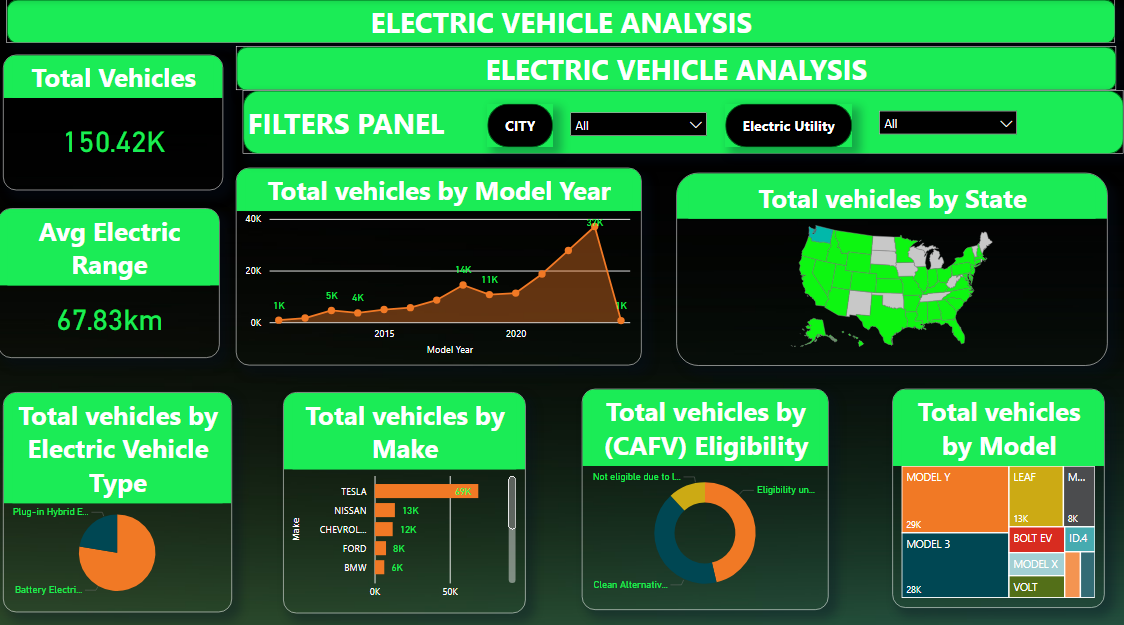

The dashboard page shown, as its layout file describes it:
{"tool":"powerbi","page":{"name":"Page 1","canvas":[1280,720],"ordinal":0},"visuals":[{"type":"shape","box":[10,0,1260,50],"z":0},{"type":"card","title":"Total Vehicles","fields":{"Values":["Electric_Vehicle_Population_Data.Total vehicles"]},"box":[6,64,250,154],"z":1000},{"type":"card","title":"Avg Electric Range","fields":{"Values":["Electric_Vehicle_Population_Data.BEV Vehicle"]},"box":[0,238,252,170],"z":2000},{"type":"pieChart","fields":{"Y":["Electric_Vehicle_Population_Data.Total vehicles"],"Category":["Electric_Vehicle_Population_Data.Electric Vehicle Type"]},"box":[6,446,260,250],"z":3000},{"type":"areaChart","fields":{"Y":["Electric_Vehicle_Population_Data.Total vehicles"],"Category":["Electric_Vehicle_Population_Data.Model Year"]},"box":[270.7,192.7,461,224.4],"z":4000},{"type":"shape","box":[270,54.3,1000,50],"z":5000},{"type":"shapeMap","fields":{"Category":["Electric_Vehicle_Population_Data.State"],"Value":["Electric_Vehicle_Population_Data.Total vehicles"]},"box":[770.7,197.6,490.2,219.5],"z":6000},{"type":"clusteredBarChart","fields":{"Y":["Electric_Vehicle_Population_Data.Total vehicles"],"Category":["Electric_Vehicle_Population_Data.Make"]},"box":[324.4,446.3,275.6,251.2],"z":7000},{"type":"donutChart","title":"Total vehicles by (CAFV) Eligibility","fields":{"Y":["Electric_Vehicle_Population_Data.Total vehicles"],"Category":["Electric_Vehicle_Population_Data.Clean Alternative Fuel Vehicle (CAFV) Eligibility"]},"box":[663.4,443.9,280.5,251.2],"z":8000},{"type":"treemap","fields":{"Group":["Electric_Vehicle_Population_Data.Model"],"Values":["Electric_Vehicle_Population_Data.Total vehicles"]},"box":[1017.1,443.9,241.5,248.8],"z":9000},{"type":"shape","box":[278.1,104.3,1000.8,72],"z":10000},{"type":"slicer","fields":{"Values":["Electric_Vehicle_Population_Data.City"]},"box":[990.9,116.7,176.3,57.1],"z":11000},{"type":"shape","box":[556.3,119.2,74.5,49.7],"z":12000},{"type":"shape","box":[827,119.2,144,49.7],"z":13000},{"type":"slicer","fields":{"Values":["Electric_Vehicle_Population_Data.City"]},"box":[640.5,118.9,174.5,57.5],"z":13001}]}

Visuals, with their boxes in screenshot pixels (x1, y1, x2, y2), scaled from the page's 1280x720 canvas onto the 1124x625 screenshot:
shape: box(9, 0, 1115, 43)
"Total Vehicles" card: box(5, 56, 225, 189)
"Avg Electric Range" card: box(0, 207, 221, 354)
pieChart - Electric_Vehicle_Population_Data.Total vehicles x Electric_Vehicle_Population_Data.Electric Vehicle Type: box(5, 387, 234, 604)
areaChart - Electric_Vehicle_Population_Data.Total vehicles x Electric_Vehicle_Population_Data.Model Year: box(238, 167, 643, 362)
shape: box(237, 47, 1115, 91)
shapeMap - Electric_Vehicle_Population_Data.State x Electric_Vehicle_Population_Data.Total vehicles: box(677, 172, 1107, 362)
clusteredBarChart - Electric_Vehicle_Population_Data.Total vehicles x Electric_Vehicle_Population_Data.Make: box(285, 387, 527, 605)
"Total vehicles by (CAFV) Eligibility" donutChart: box(583, 385, 829, 603)
treemap - Electric_Vehicle_Population_Data.Model x Electric_Vehicle_Population_Data.Total vehicles: box(893, 385, 1105, 601)
shape: box(244, 91, 1123, 153)
slicer - Electric_Vehicle_Population_Data.City: box(870, 101, 1025, 151)
shape: box(489, 103, 554, 147)
shape: box(726, 103, 853, 147)
slicer - Electric_Vehicle_Population_Data.City: box(562, 103, 716, 153)
